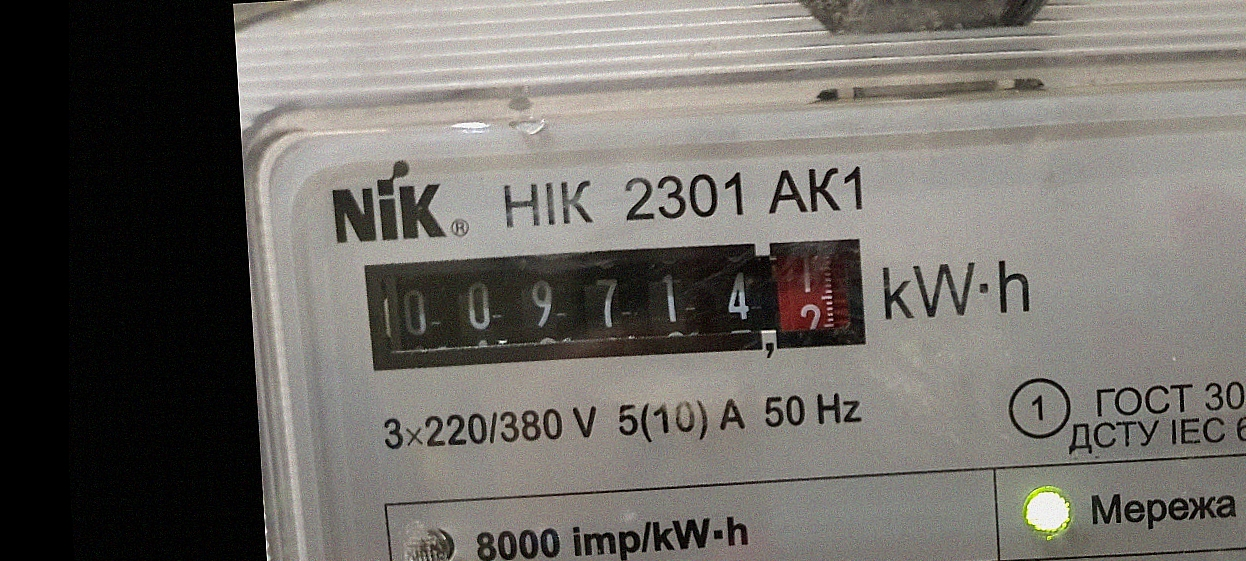0: (399, 284, 431, 339), (463, 277, 493, 332)
1: (657, 268, 683, 325), (797, 251, 814, 294)
2: (797, 299, 823, 330)
4: (722, 268, 753, 323)
7: (593, 275, 622, 330)
9: (526, 275, 557, 329)
screen: (348, 218, 884, 392)
